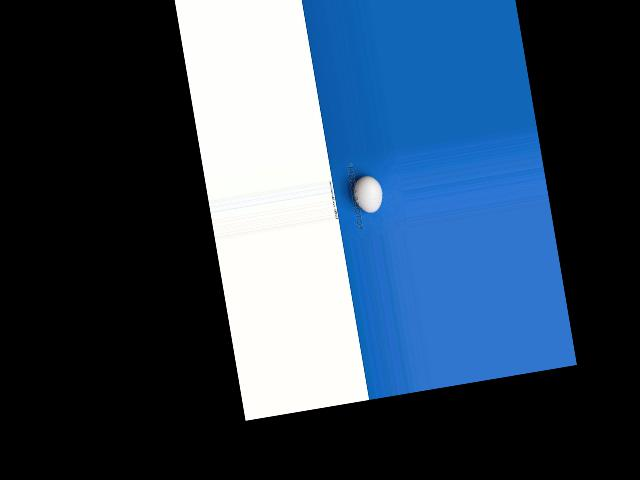egg: (350, 173, 384, 214)
